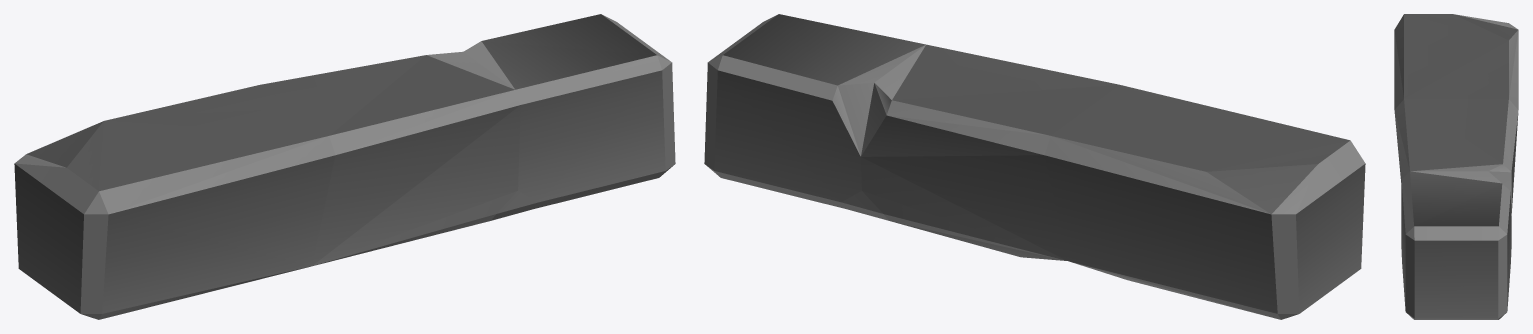
The model's file is rock.fbx.
The picture shows the model from 3 angles, left to right: view 1: azimuth 30°, elevation 25°; view 2: azimuth 150°, elevation 25°; view 3: azimuth 270°, elevation 25°; orthographic projection. The views are drawn at different scales.
Visible parts, largest first — view 1: ark_stone_0.001; view 2: ark_stone_0.001; view 3: ark_stone_0.001.
Boxes of the visible parts, left/top/right/bottom form: ark_stone_0.001: left=14, top=14, right=675, bottom=319; ark_stone_0.001: left=704, top=14, right=1365, bottom=319; ark_stone_0.001: left=1394, top=14, right=1518, bottom=319.
Bounding box in the file's own units: 356 × 76.44 × 84.83.
